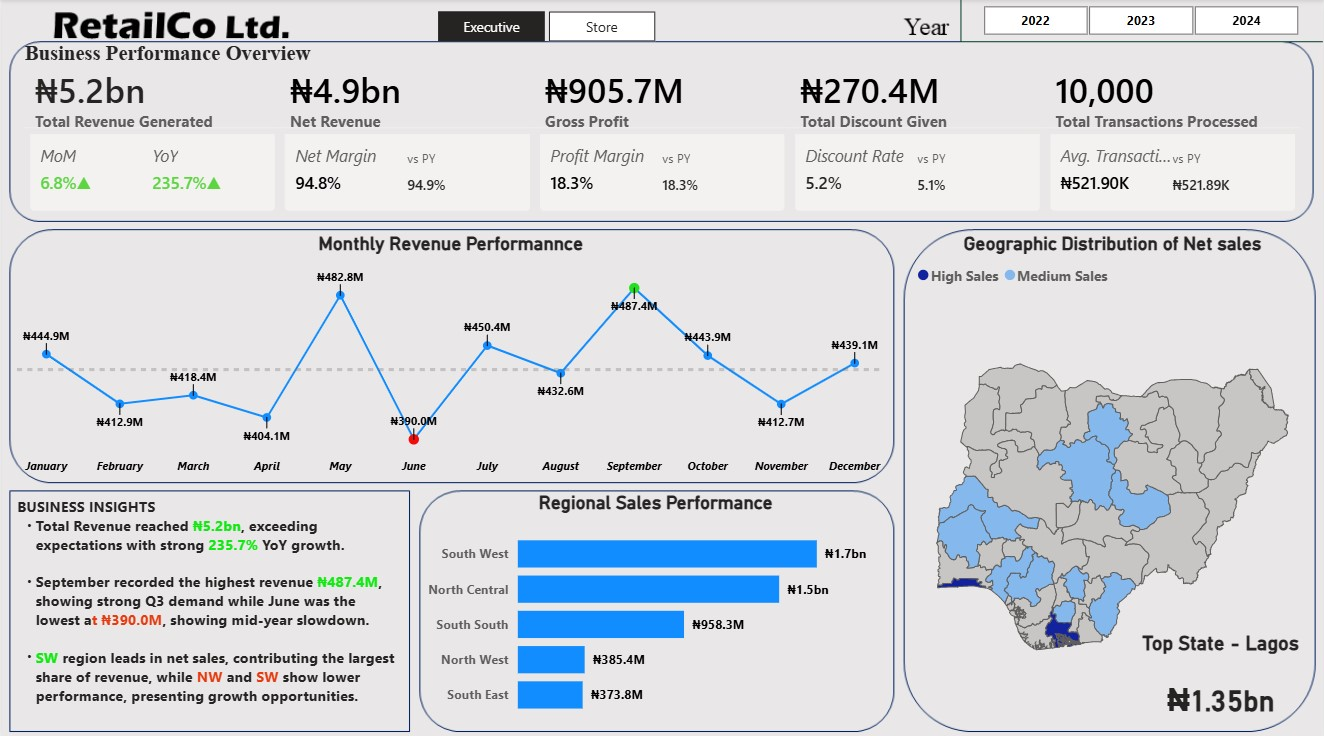

The dashboard page shown, as its layout file describes it:
{"tool":"powerbi","page":{"name":"Executive","canvas":[1280,720],"ordinal":0},"visuals":[{"type":"cardVisual","title":"Business Performance Overview","fields":{"Data":["Measures Table.R.Total Revenue","Measures Table.Net Revenue","Measures Table.Profit","Measures Table.Total Discount","Calendar.Total Transactions"]},"box":[16.9,41.2,1246.8,173.1],"z":0},{"type":"lineChart","title":"Monthly Revenue Performannce","fields":{"Category":["Calendar.MonthName"],"Y":["Measures Table.R.Total Revenue"]},"box":[9.7,226.4,849.8,243.3],"z":1000},{"type":"shapeMap","title":"Geographic Distribution of Net sales","fields":{"Category":["Stores.State"],"Series":["Stores.Sales Category"],"Value":["Sum(Stores.Total State Sales)"]},"box":[881.2,226.4,388.6,480.6],"z":2000},{"type":"barChart","title":"Regional Sales Performance","fields":{"Category":["Stores.Region"],"Y":["Measures Table.Net sales"]},"box":[406.7,476.9,452.7,230],"z":3000},{"type":"slicer","title":"Year","fields":{"Values":["Calendar.FiscalYear"]},"box":[925.2,0,354.6,41.7],"z":4000},{"type":"textbox","box":[9.7,476.9,381.3,230],"z":5000},{"type":"kpi","title":"Top State - Lagos","fields":{"TrendLine":["Stores.State"],"Indicator":["Measures Table.Net sales"]},"box":[1090.7,612.5,179.2,107.7],"z":6000},{"type":"pageNavigator","box":[422.5,12.1,210.6,29.1],"z":6001}]}

Visuals, with their boxes in screenshot pixels (x1, y1, x2, y2), scaled from the page's 1280x720 canvas onto the 1324x736 screenshot:
"Business Performance Overview" cardVisual: <box>17,42,1307,219</box>
"Monthly Revenue Performannce" lineChart: <box>10,231,889,480</box>
"Geographic Distribution of Net sales" shapeMap: <box>911,231,1313,723</box>
"Regional Sales Performance" barChart: <box>421,487,889,723</box>
"Year" slicer: <box>957,0,1323,43</box>
textbox: <box>10,487,404,723</box>
"Top State - Lagos" kpi: <box>1128,626,1314,735</box>
pageNavigator: <box>437,12,655,42</box>
